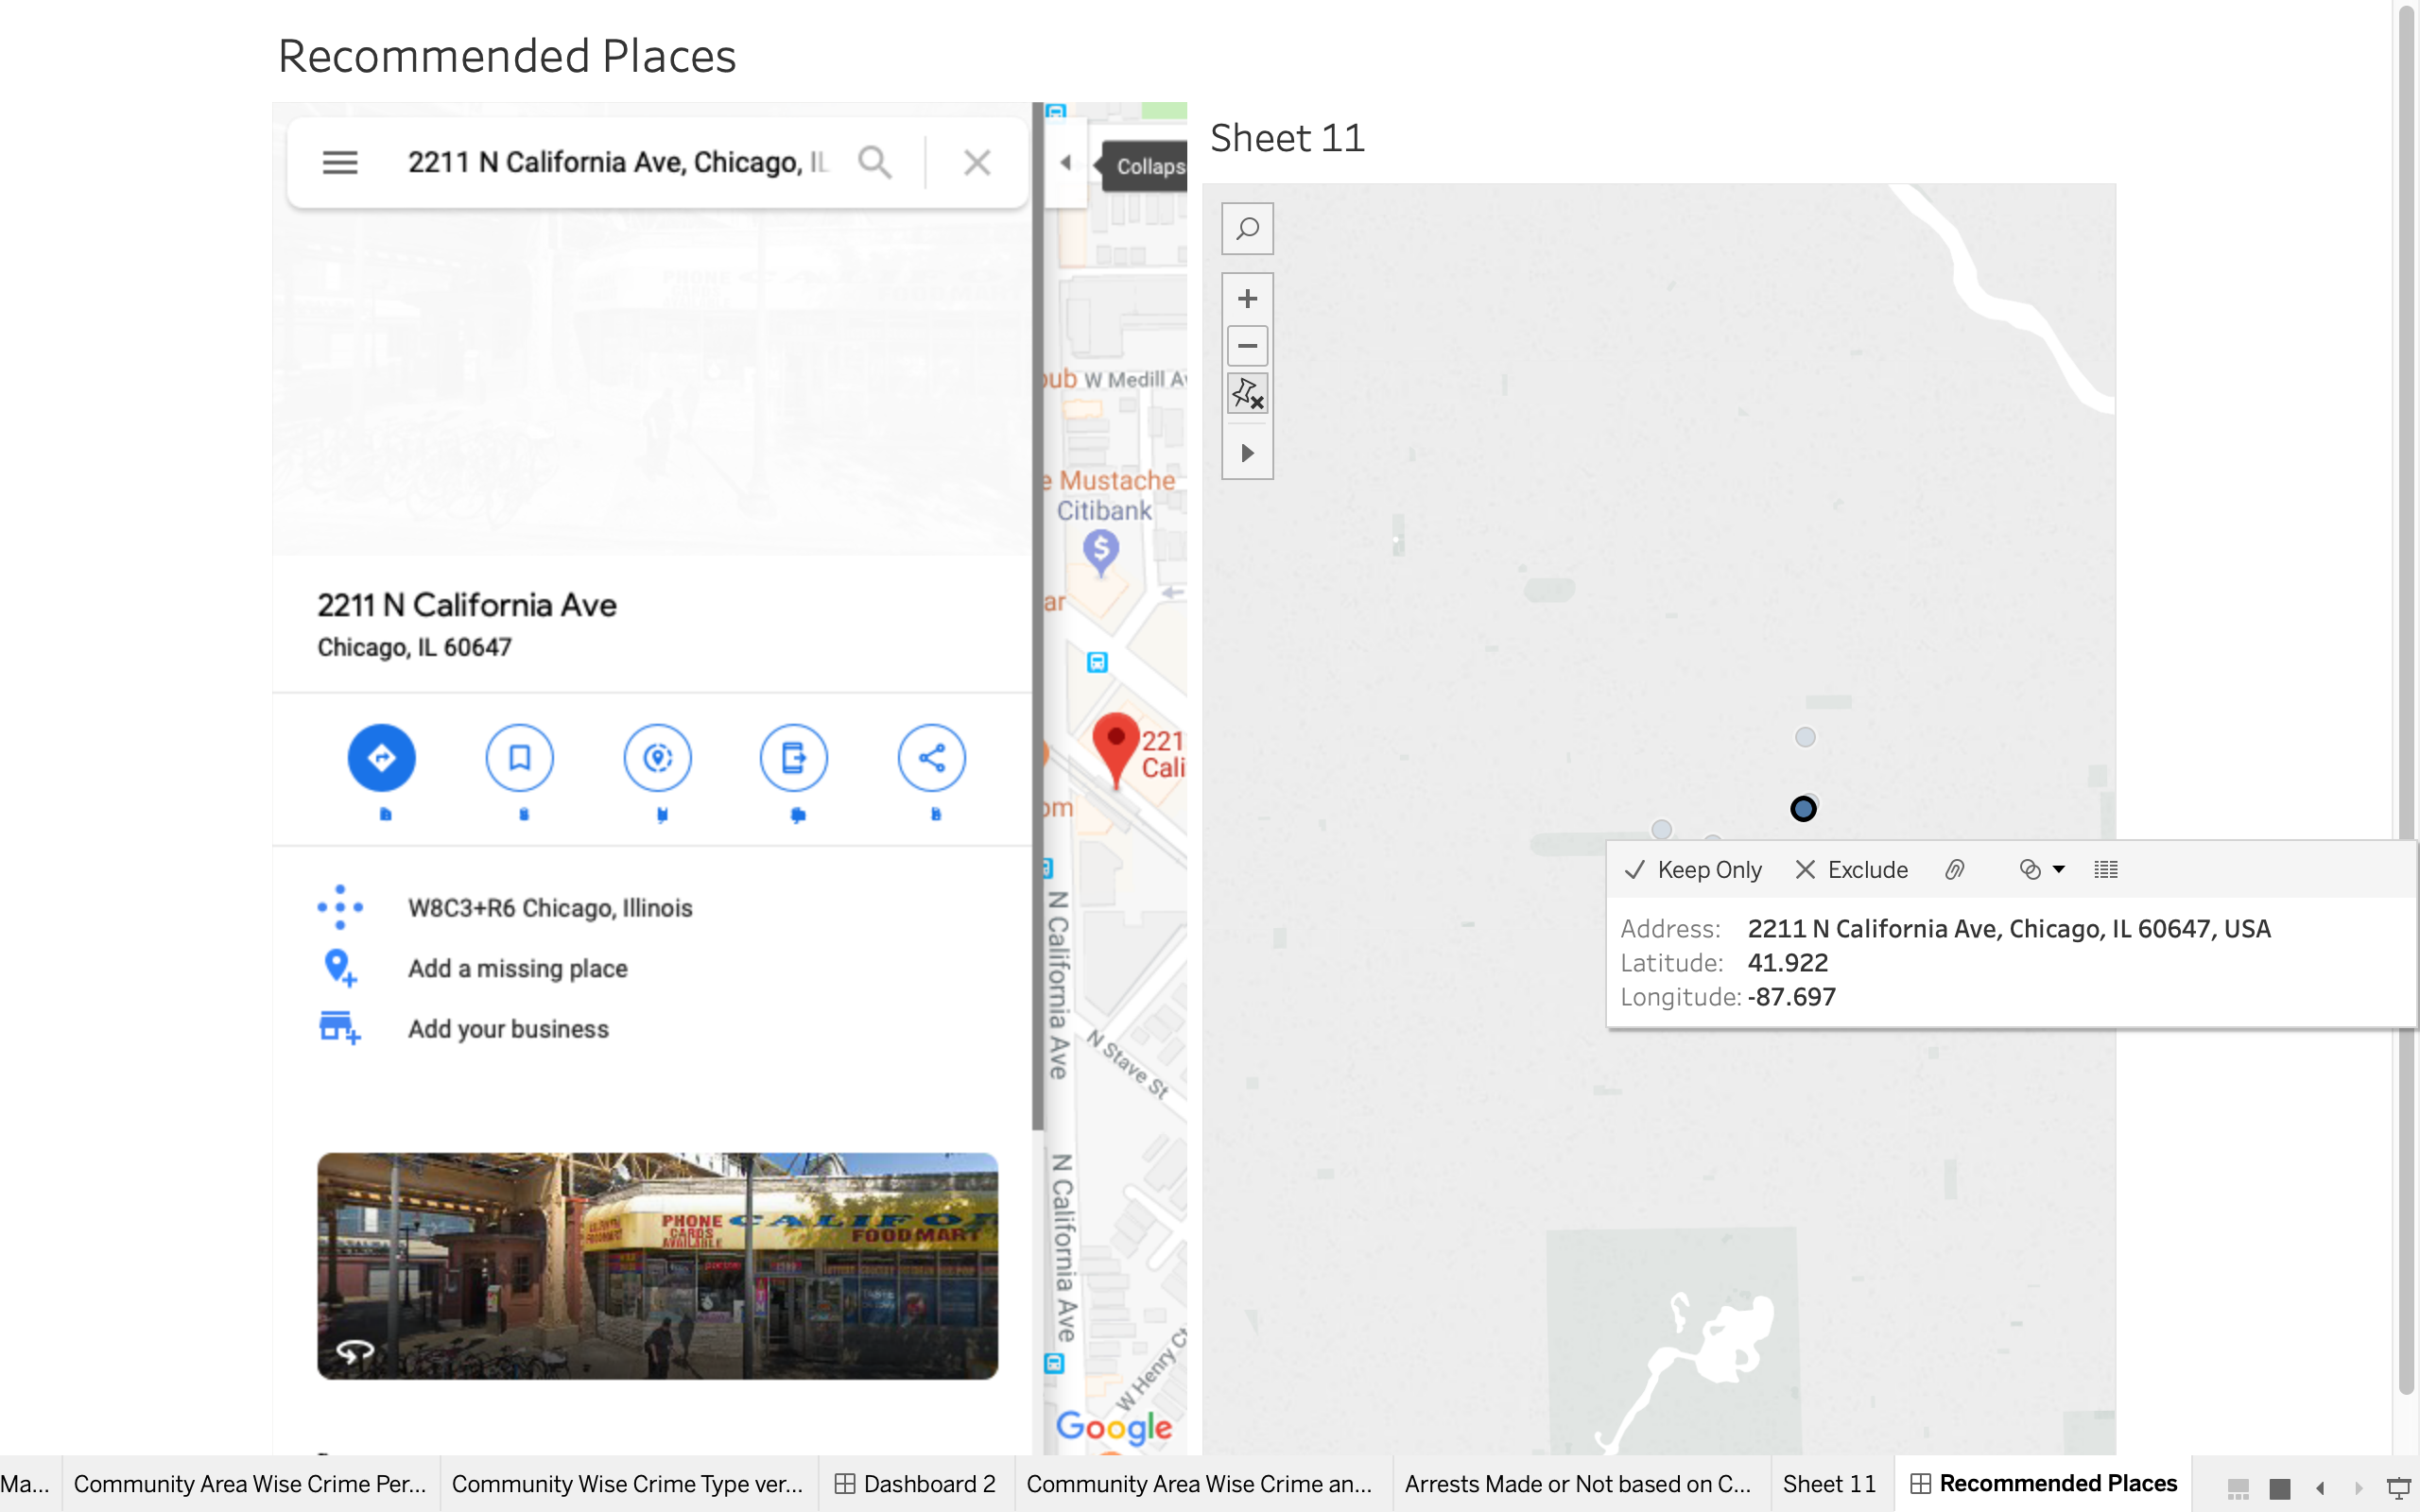

The dashboard page shown, as its layout file describes it:
{"tool":"tableau","page":{"name":"Recommended Places","canvas":[1000,800],"ordinal":2},"visuals":[{"type":"title","box":[8,8,984,42]},{"type":"web page","param":"https://www.google.com/maps/?q=Palmer Square, Chicago, IL 60647, USA","box":[8,50,492,742]},{"type":"worksheet","title":"Sheet 11","mark":"Automatic","rows":["Latitude"],"cols":["Longitude"],"box":[500,50,492,742]}]}

Visuals, with their boxes on the page's 1000x800 design canvas (x1, y1, x2, y2). These are canvas units, not pixel positions in the 2420x1512 screenshot, which may show the page scaled, cropped or inside an application window:
title: x1=8 y1=8 x2=992 y2=50
web page: x1=8 y1=50 x2=500 y2=792
"Sheet 11" worksheet: x1=500 y1=50 x2=992 y2=792
